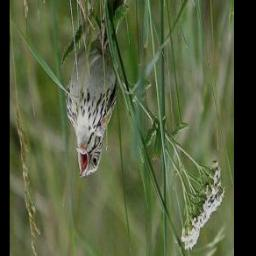Sparrow: (65, 0, 128, 179)
